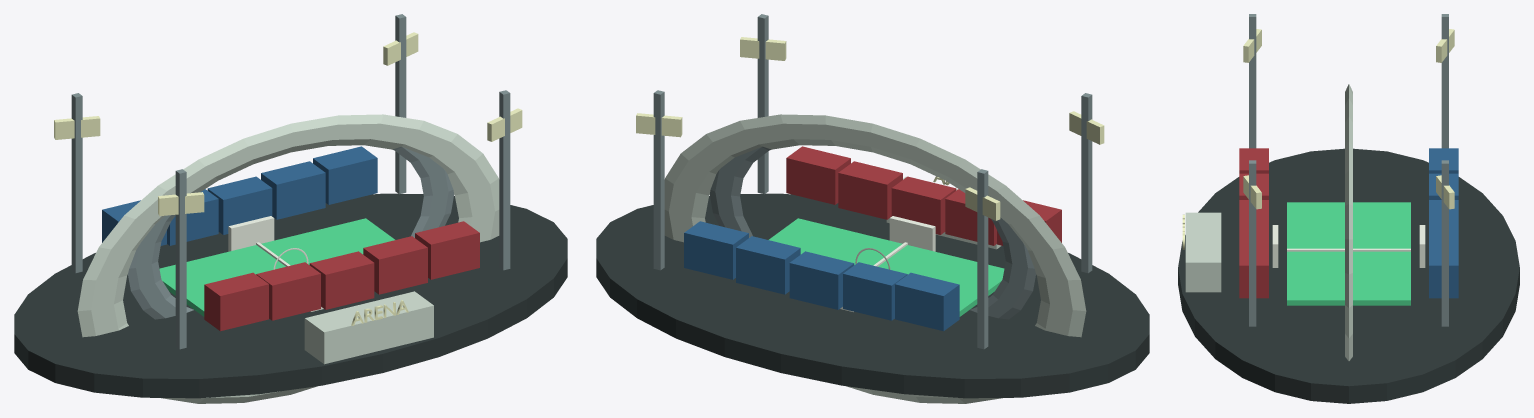
File: stadium-lowpoly.glb
The picture shows the model from 3 angles, left to right: view 1: azimuth 30°, elevation 25°; view 2: azimuth 150°, elevation 25°; view 3: azimuth 270°, elevation 25°; orthographic projection. The views are drawn at different scales.
Visible parts, largest first — view 1: stadium_foundation, stadium_outer_bowl, stadium_pitch, stadium_entrance_block, stadium_upper_ring, stadium_left_stand_0, stadium_right_stand_3, stadium_left_stand_3, stadium_left_stand_2, stadium_right_stand_4, stadium_left_stand_4, stadium_left_stand_1 (+13 smaller); view 2: stadium_foundation, stadium_outer_bowl, stadium_pitch, stadium_upper_ring, stadium_right_stand_0, stadium_left_stand_3, stadium_right_stand_3, stadium_right_stand_2, stadium_left_stand_4, stadium_right_stand_4, stadium_right_stand_1, stadium_left_stand_2 (+11 smaller); view 3: stadium_foundation, stadium_pitch, stadium_entrance_block, stadium_outer_bowl, stadium_left_stand_4, stadium_right_stand_4, stadium_floodlight_mast_3, stadium_floodlight_mast_1, stadium_floodlight_mast_0, stadium_floodlight_mast_2, stadium_left_stand_0, stadium_right_stand_0 (+11 smaller).
Boxes of the visible parts, x1,y1,x2,y2 form: stadium_foundation: (14, 193, 567, 398); stadium_outer_bowl: (77, 114, 499, 403); stadium_pitch: (159, 218, 394, 316); stadium_entrance_block: (304, 291, 433, 364); stadium_upper_ring: (128, 146, 453, 319); stadium_left_stand_0: (204, 272, 268, 331); stadium_right_stand_3: (261, 161, 325, 219); stadium_left_stand_3: (363, 236, 427, 294); stadium_left_stand_2: (309, 251, 374, 309); stadium_right_stand_4: (313, 146, 377, 204); stadium_left_stand_4: (415, 221, 479, 279); stadium_left_stand_1: (256, 262, 320, 320); stadium_foundation: (596, 193, 1149, 398); stadium_outer_bowl: (664, 114, 1086, 403); stadium_pitch: (769, 218, 1004, 316); stadium_upper_ring: (710, 146, 1035, 319); stadium_right_stand_0: (895, 272, 959, 331); stadium_left_stand_3: (838, 161, 902, 219); stadium_right_stand_3: (736, 236, 800, 294); stadium_right_stand_2: (789, 251, 854, 309); stadium_left_stand_4: (786, 146, 850, 204); stadium_right_stand_4: (684, 221, 748, 279); stadium_right_stand_1: (843, 262, 907, 320); stadium_left_stand_2: (891, 176, 956, 234); stadium_foundation: (1178, 148, 1519, 403); stadium_pitch: (1287, 202, 1410, 305); stadium_entrance_block: (1185, 212, 1221, 292); stadium_outer_bowl: (1345, 84, 1352, 360); stadium_left_stand_4: (1239, 243, 1268, 298); stadium_right_stand_4: (1429, 243, 1458, 298); stadium_floodlight_mast_3: (1441, 160, 1448, 326); stadium_floodlight_mast_1: (1249, 160, 1256, 326); stadium_floodlight_mast_0: (1249, 14, 1256, 148); stadium_floodlight_mast_2: (1441, 14, 1448, 148); stadium_left_stand_0: (1239, 148, 1268, 173); stadium_right_stand_0: (1429, 148, 1458, 173).
Size of the model in its own units: 6.88 by 3.77 by 4.18.
